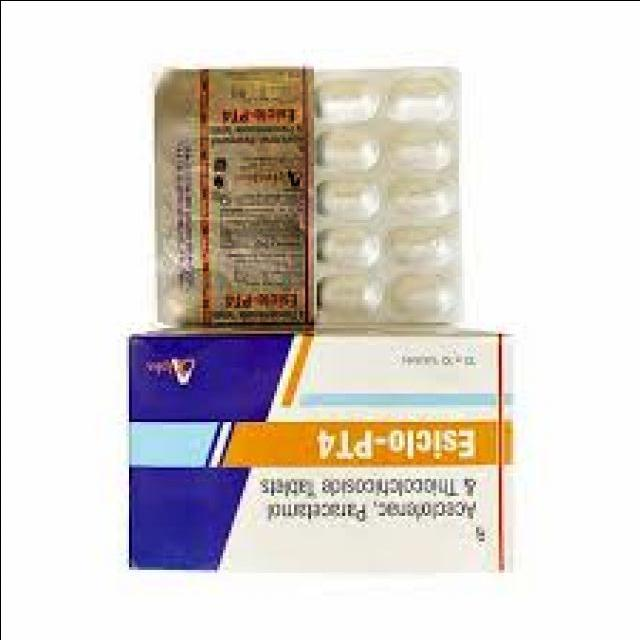authentic: (115, 326, 533, 595), (146, 62, 313, 335), (306, 64, 474, 330)
